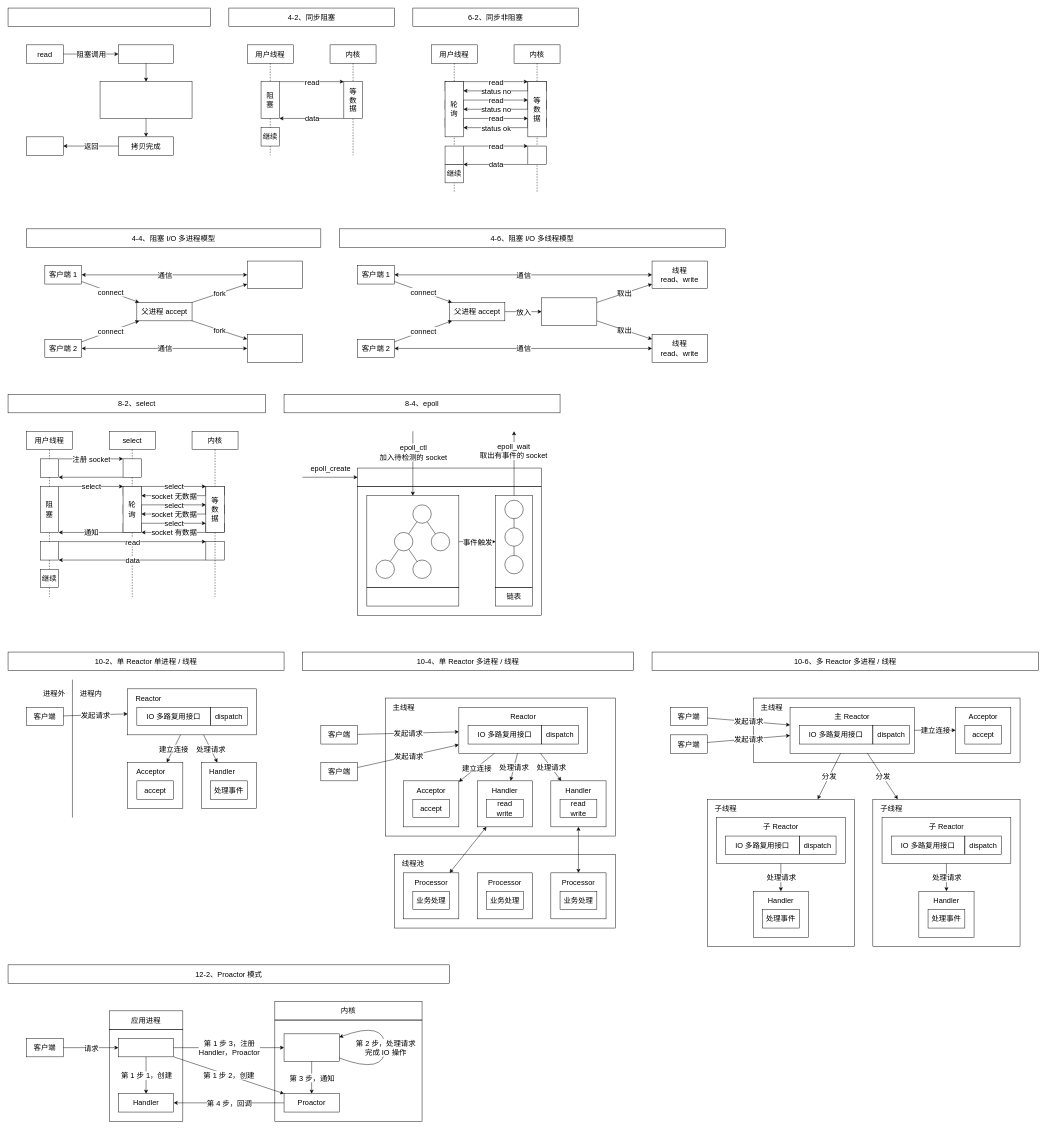
Some shapes in this 1047 by 1129 pixel diagram are drawn without their labels. Each missing label, with the centre of its shape:
"2-2、阻塞 I/O" goes at [109,17].
"Asynchronous Operation Processor" goes at [311,1047].
"Proactor Initiator" goes at [146,1047].
"内核创建的 epoll 对象" goes at [449,477].
"子进程 1 read、write" goes at [274,275].
"子进程 2 read、write" goes at [274,348].
"已连接 socket 队列" goes at [569,311].
"拿到数据" goes at [44,145].
"数据准备好了 需要从内核拷贝到用户进程" goes at [146,99].
"数据没准备好" goes at [146,53].
"红黑树" goes at [412,596].
"调用" goes at [49,467].
